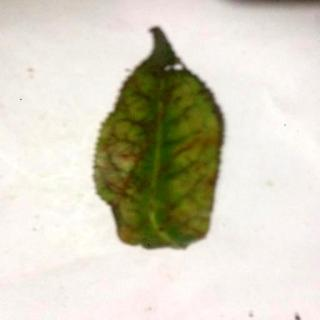Red Leaf Spot: (94, 28, 224, 251)
